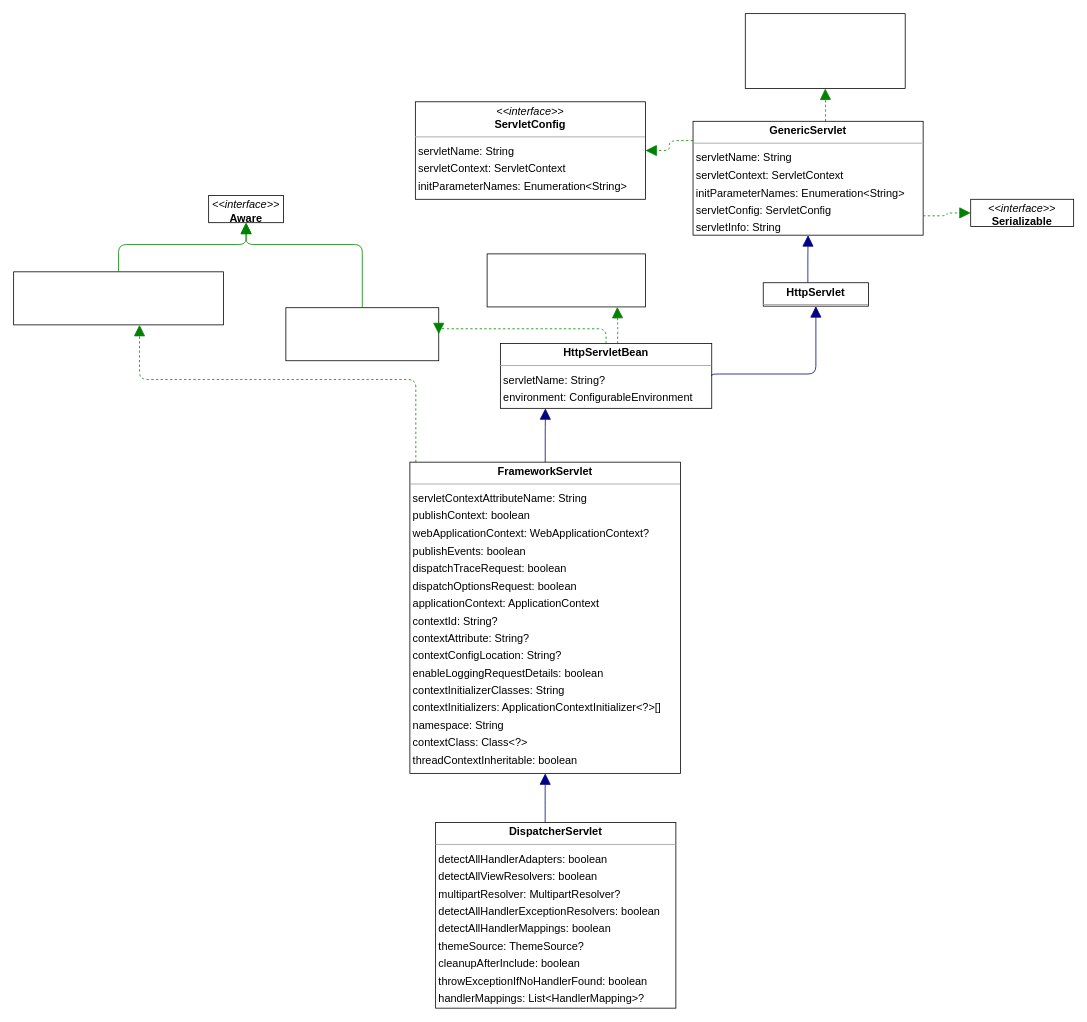
Image size: 1087x1022. Some labels were removed from this diagram. Here are the shapes that lost their labels. From the top down, the centre of each, then its label:
At point (825, 51): "<<interface>> Servlet servletConfig: ServletConfig servletInfo: String".
At point (118, 298): "<<interface>> ApplicationContextAware applicationContext: ApplicationContext".
At point (565, 280): "<<interface>> EnvironmentCapable environment: Environment".
At point (362, 334): "<<interface>> EnvironmentAware environment: Environment".
